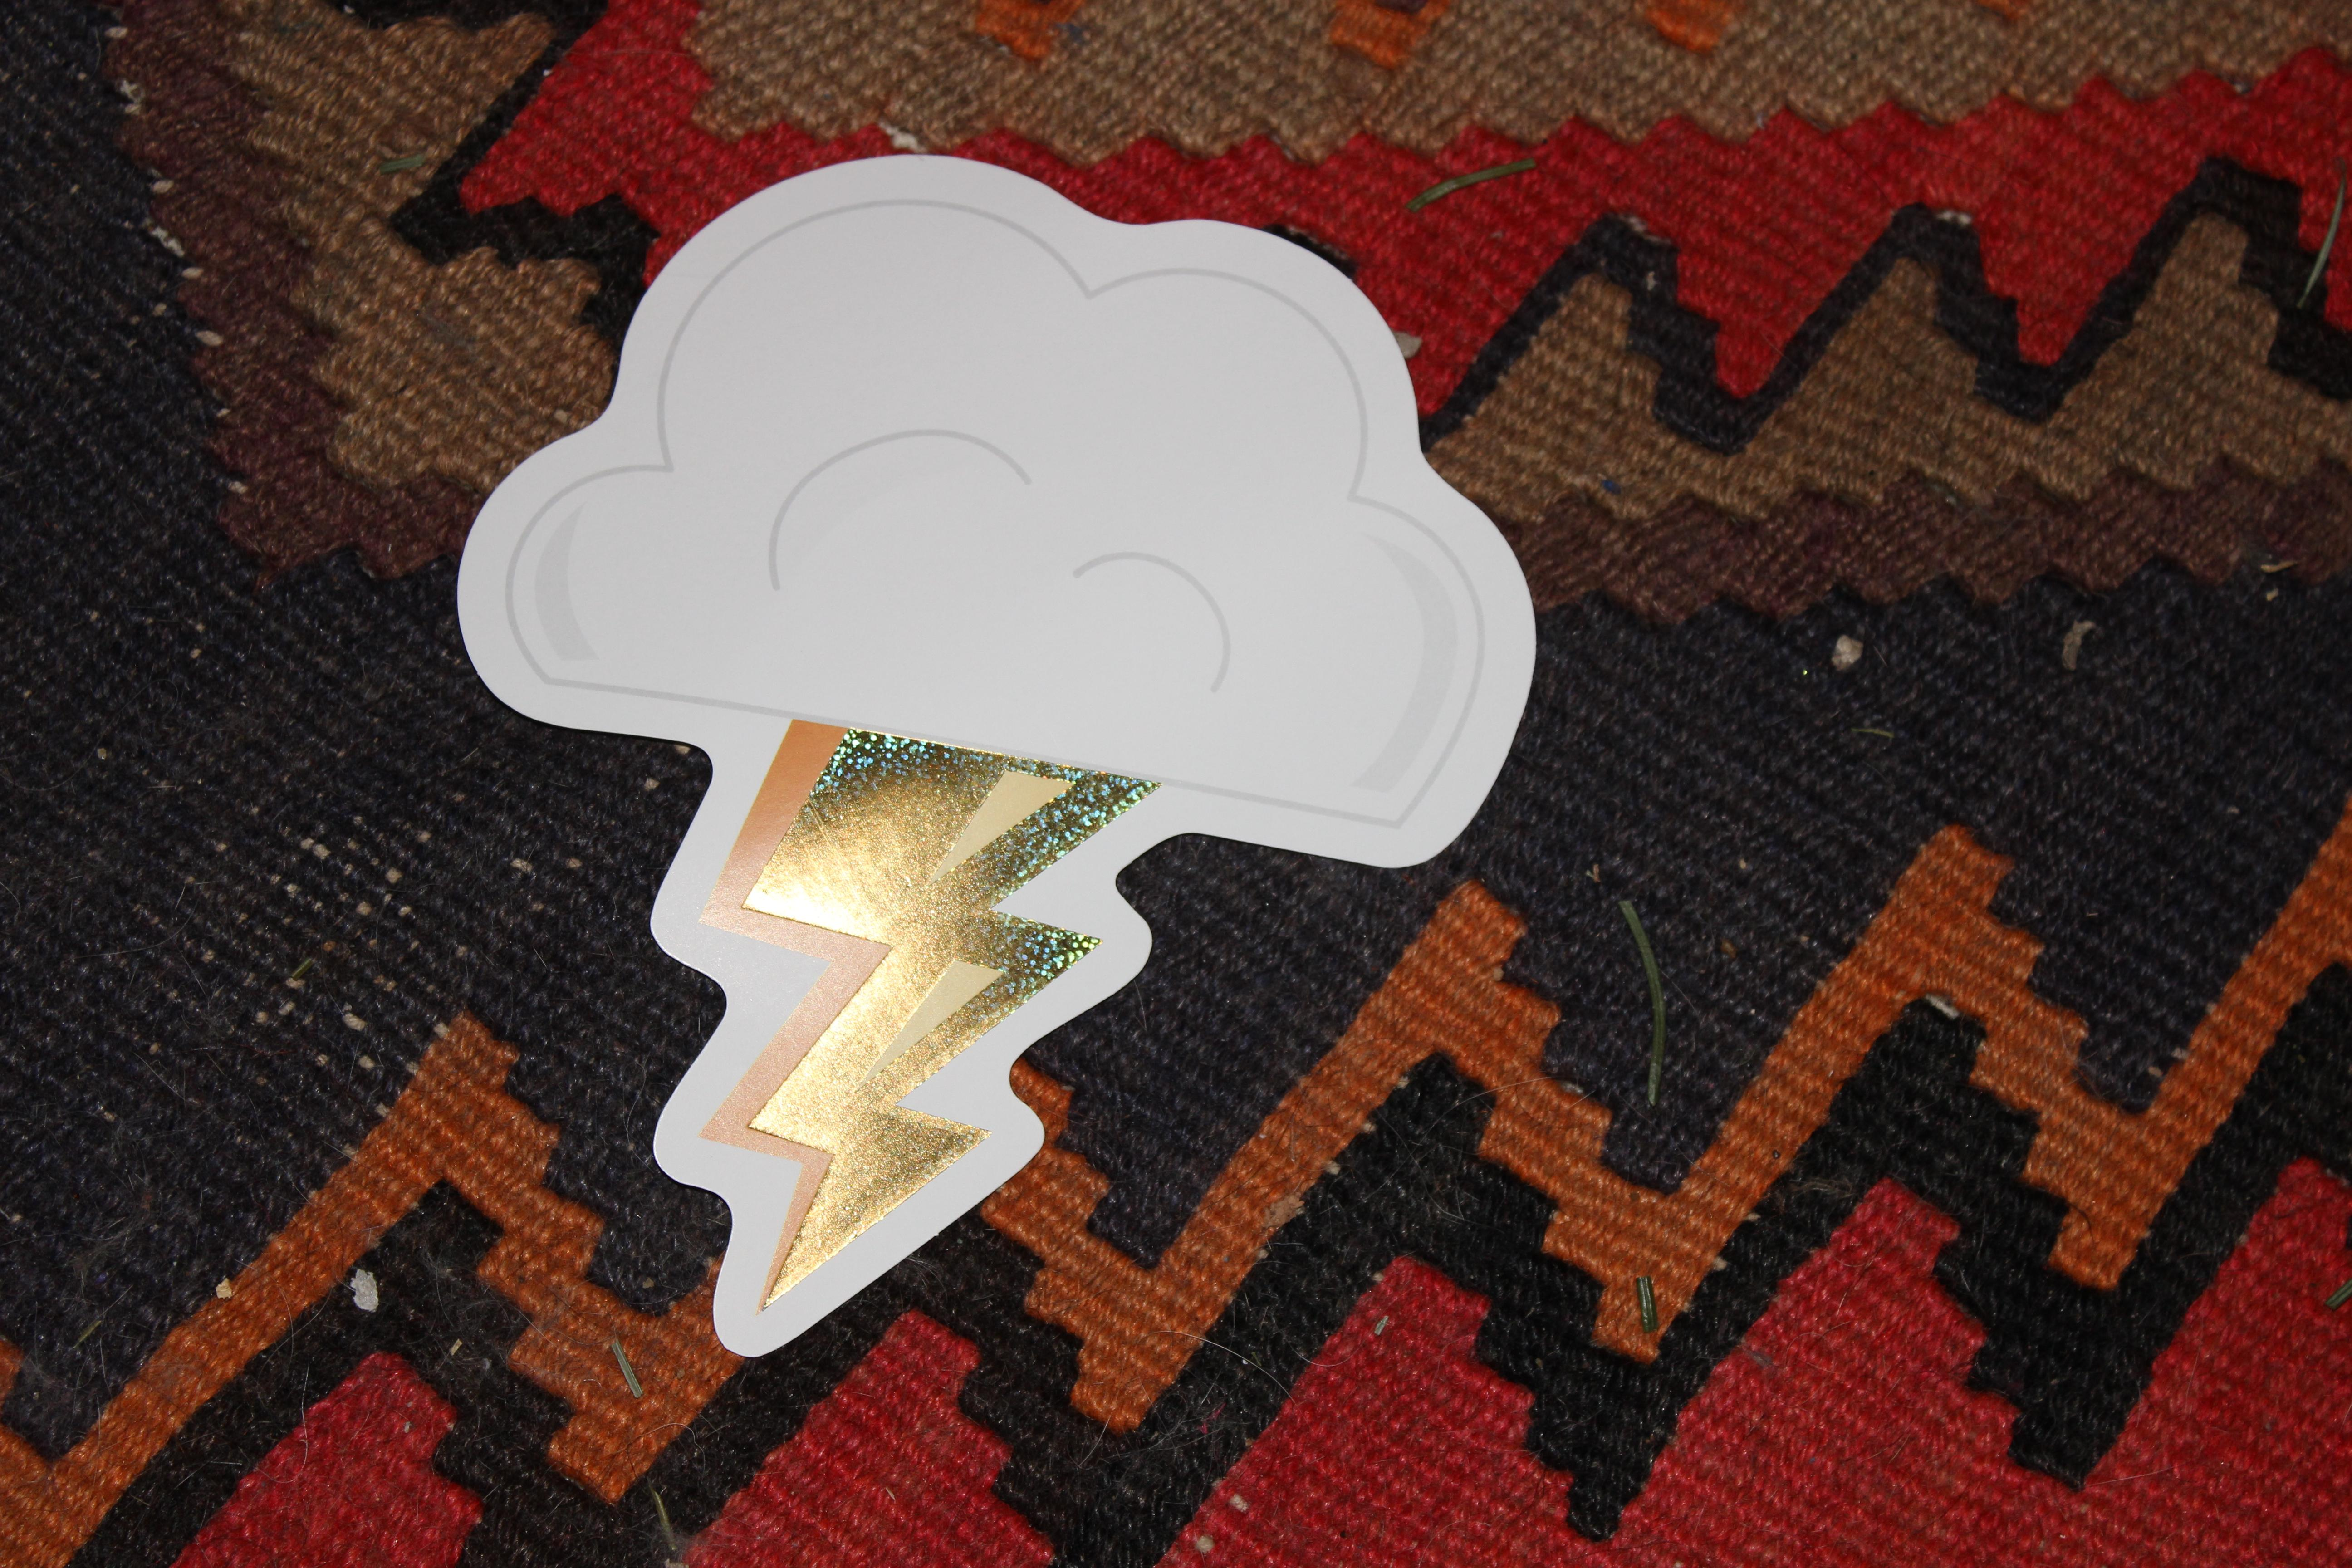cloudSign: (423, 116, 1570, 1381)
